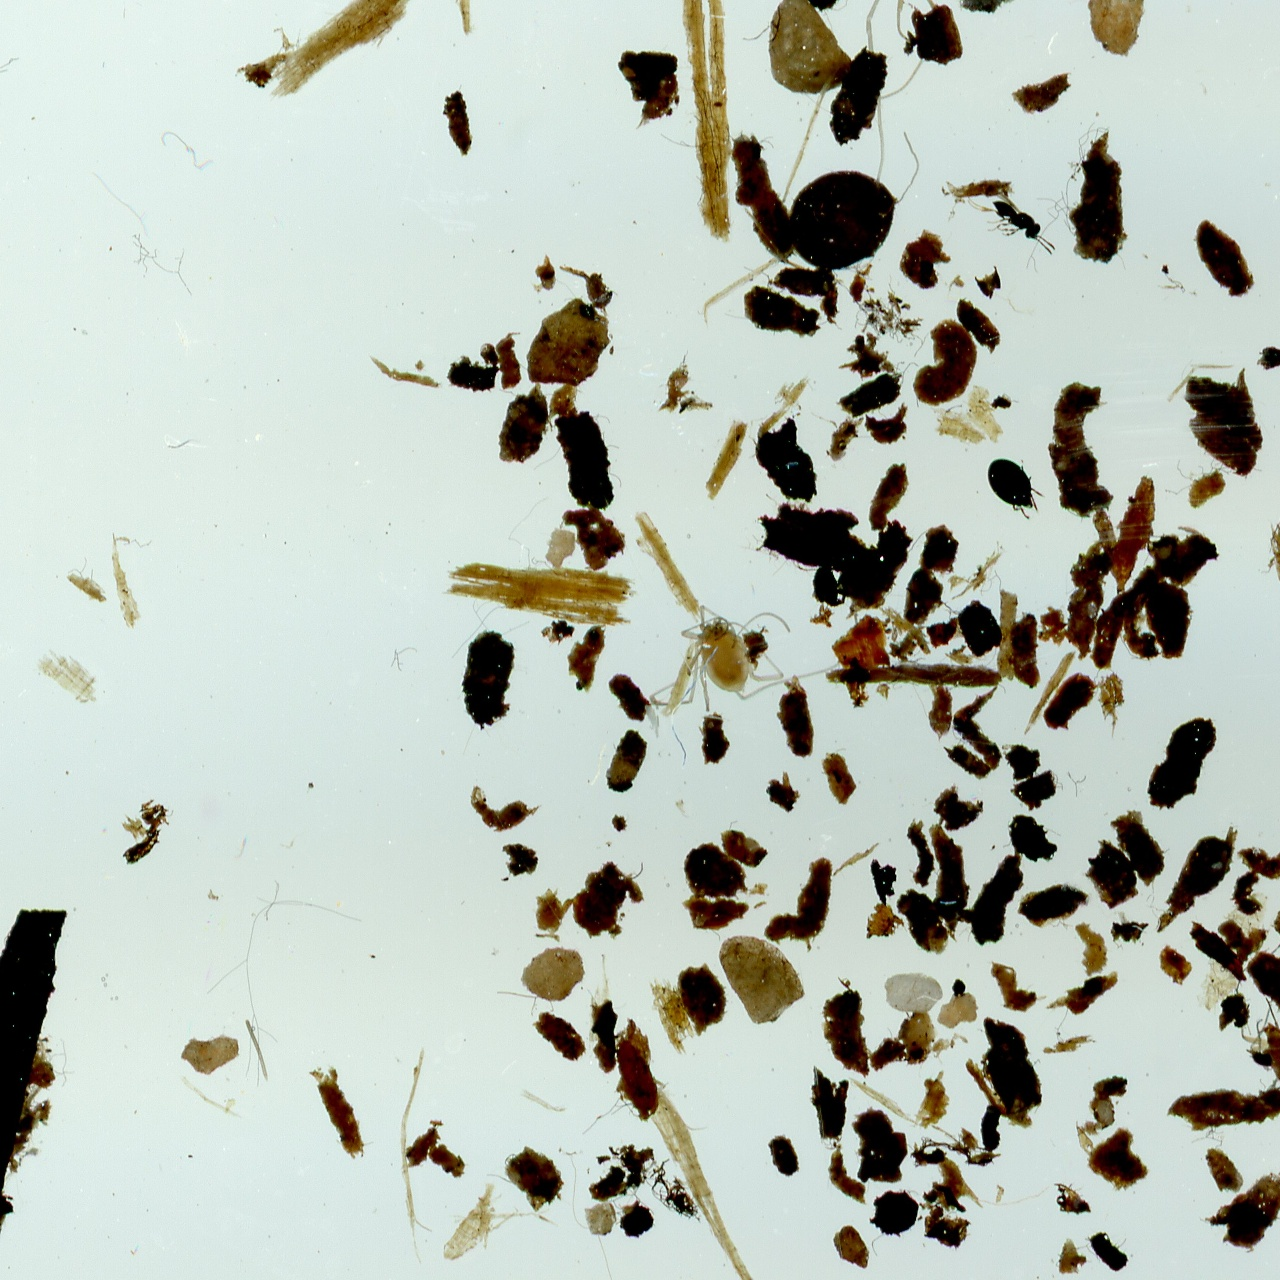arthropod: (734, 0, 1258, 217), (646, 602, 842, 717), (956, 174, 1069, 272), (984, 453, 1047, 524), (1242, 998, 1280, 1089)
